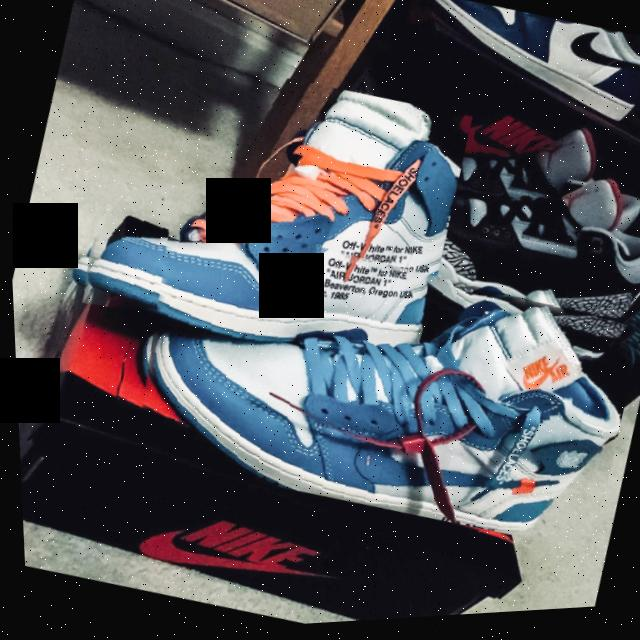shoe: (105, 189, 640, 580), (53, 29, 479, 393)
